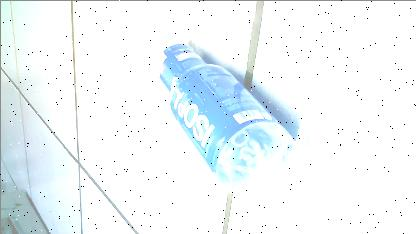Plastic Bottle: (135, 17, 318, 212)
